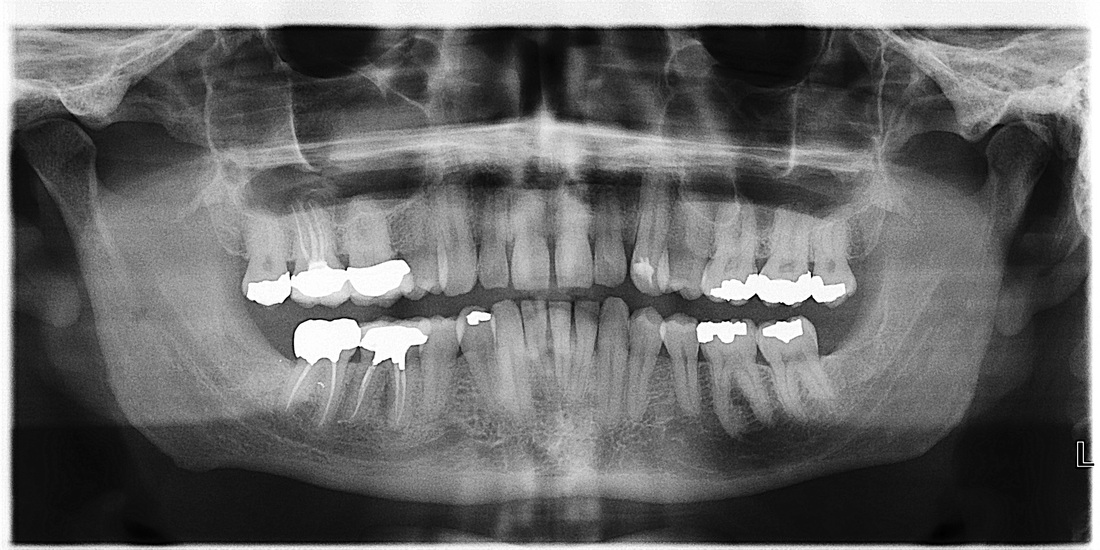canine: (452, 299, 510, 427), (427, 178, 483, 301), (626, 162, 672, 300), (599, 292, 632, 434)
incisor: (501, 178, 553, 300), (547, 177, 597, 297), (484, 294, 529, 426), (589, 175, 630, 296), (474, 178, 513, 298), (519, 291, 554, 422), (571, 294, 605, 414), (544, 293, 575, 419)
molar: (689, 299, 785, 443), (271, 310, 365, 440), (749, 304, 839, 432), (349, 304, 430, 432), (750, 166, 821, 312), (694, 172, 758, 304), (340, 189, 410, 309), (224, 197, 295, 314), (801, 193, 865, 317), (285, 201, 353, 316), (406, 305, 463, 442)
premolar: (653, 160, 714, 304), (390, 182, 452, 305), (655, 299, 709, 425), (623, 292, 670, 427)
